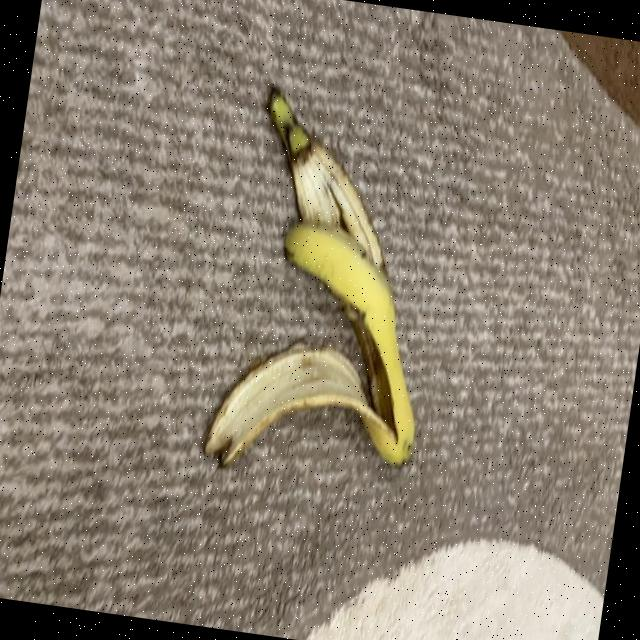banana-peel: (199, 79, 462, 493), (253, 217, 443, 467), (198, 329, 408, 492), (242, 81, 412, 274)
